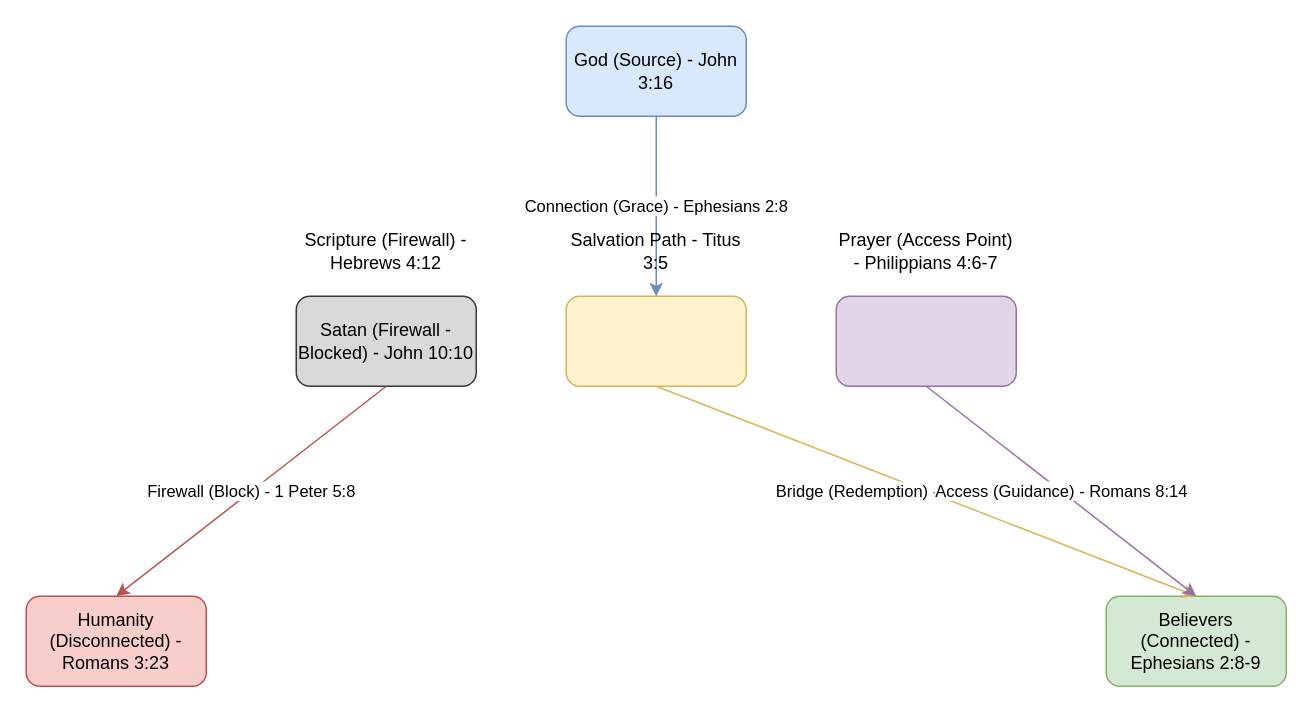
This 1313x713 diagram has some shape labels left out. The shapes that lost their labels are listed below. From the top down, each one's centre as x and y in pixels, then its label:
At [655,340]: "Jesus (Bridge/Multilayer Switch) - John 14:6".
At [925,340]: "Holy Spirit (Load Balancer/Access Point) - Acts 2:38".
